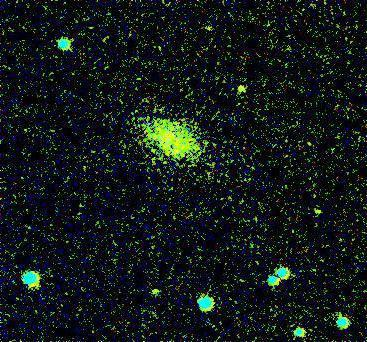star: (228, 74, 258, 104)
